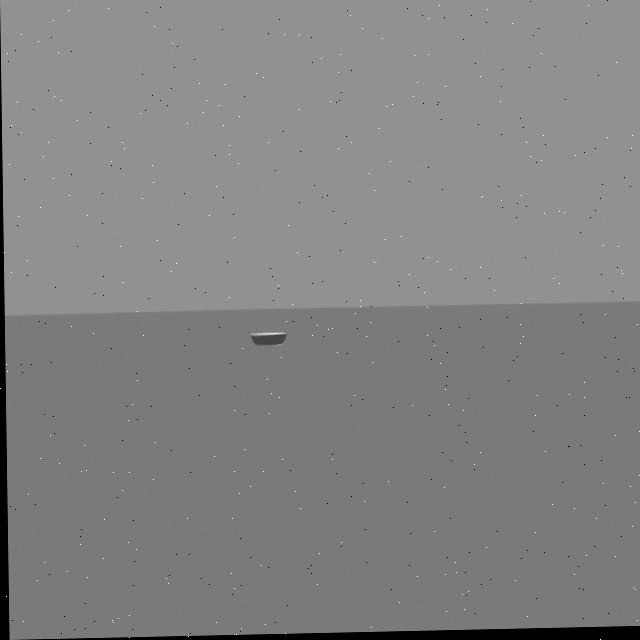bowl: (245, 315, 291, 358)
